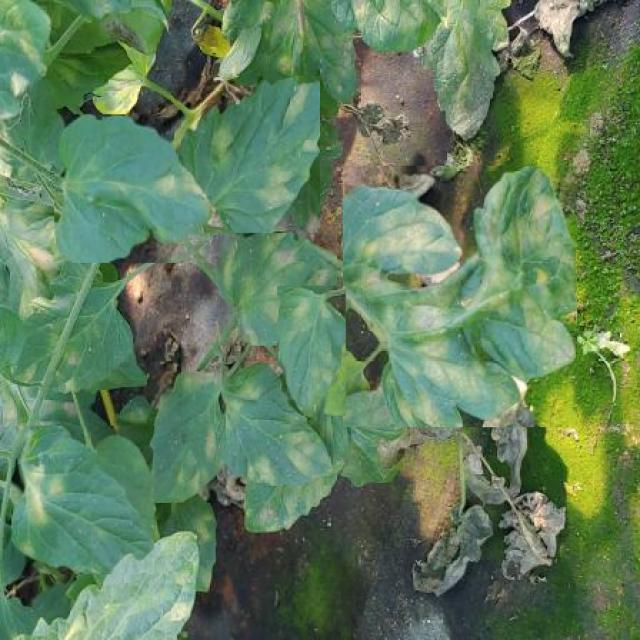Leaf Mold: (342, 166, 578, 427), (55, 115, 211, 262), (174, 76, 320, 233), (12, 425, 154, 575), (214, 361, 333, 486), (219, 227, 337, 346), (147, 371, 223, 503), (278, 286, 346, 416)
